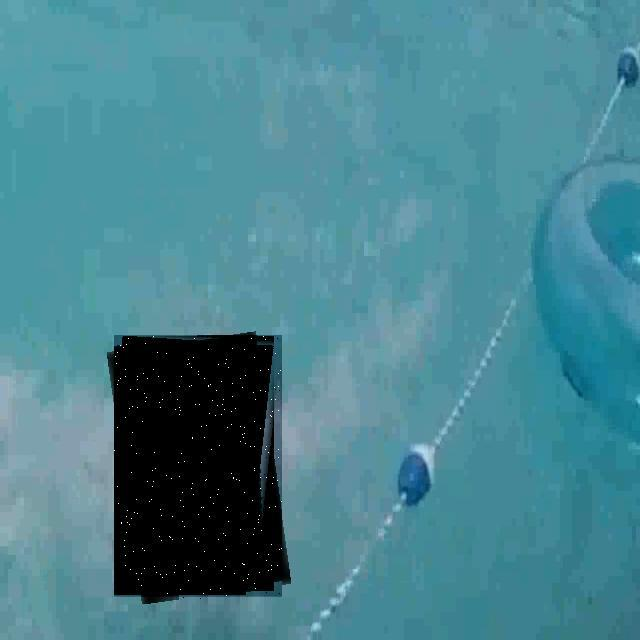Out of Water: (115, 336, 282, 600)
